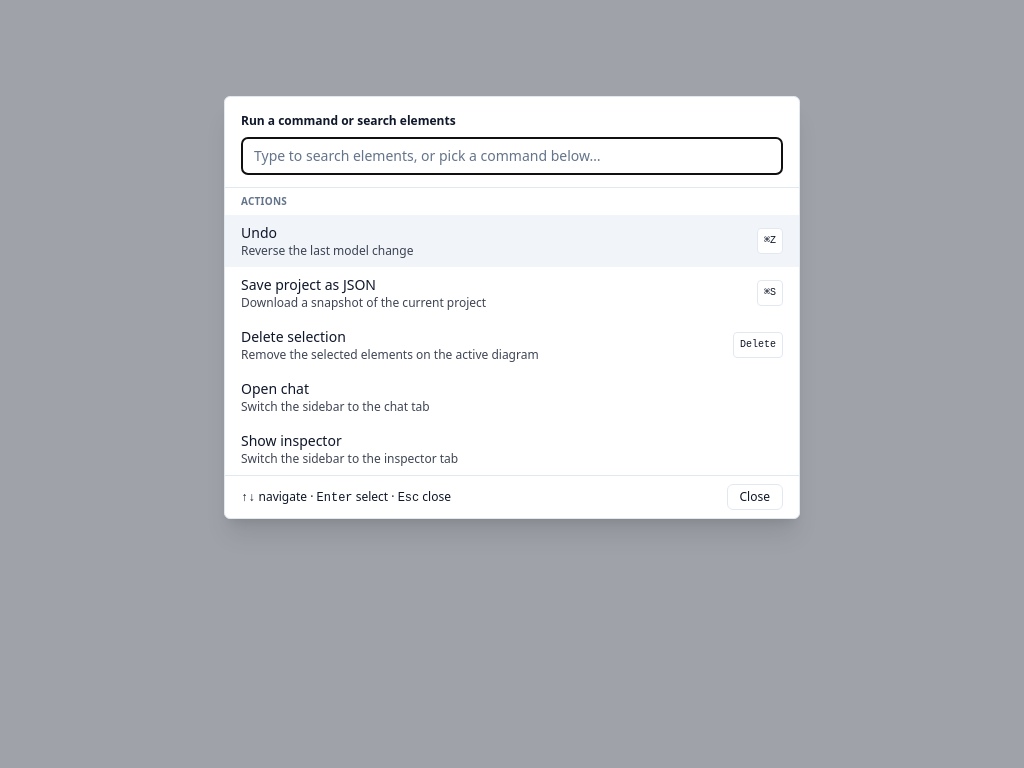
Test: <CommandPalette /> (T-13.05a/b) › query-active result set above the threshold groups under Commands / Elements headers
Type "selection" into the dropdown with test id "command-palette-input". click: {"x": 512, "y": 156}
box: [241,137,783,175]
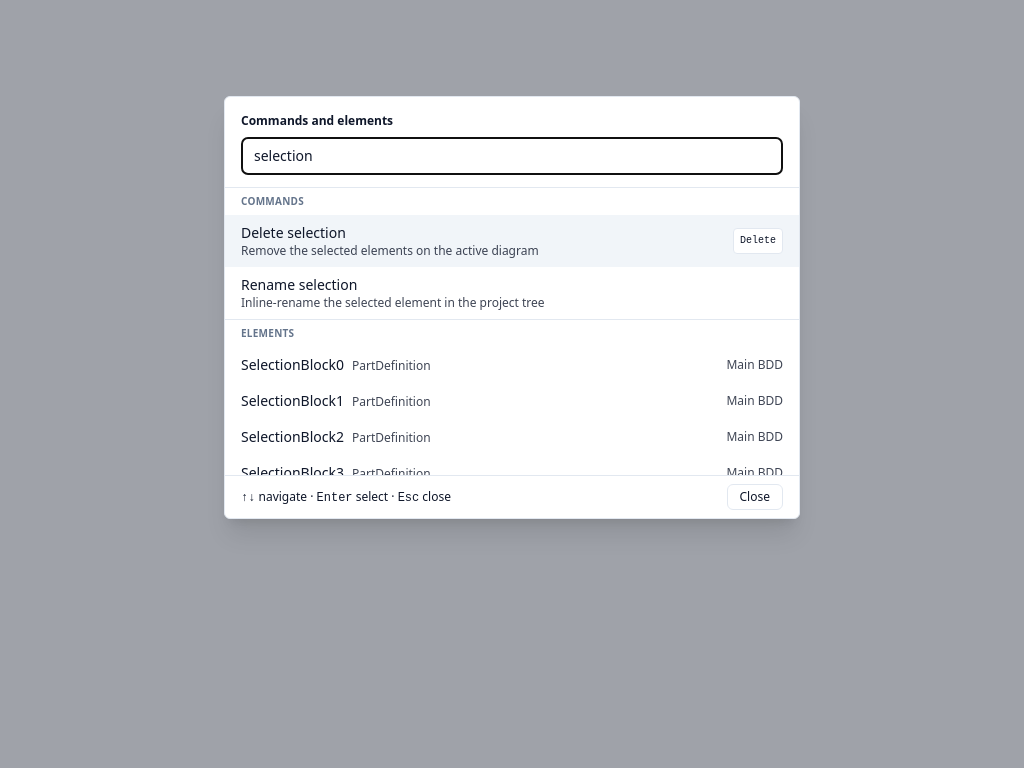
Expected: the list item with test id "command-palette-section-commands" reads "Commands", [241,194,304,208]
Expected: the list item with test id "command-palette-section-elements" reads "Elements", [241,326,294,340]
